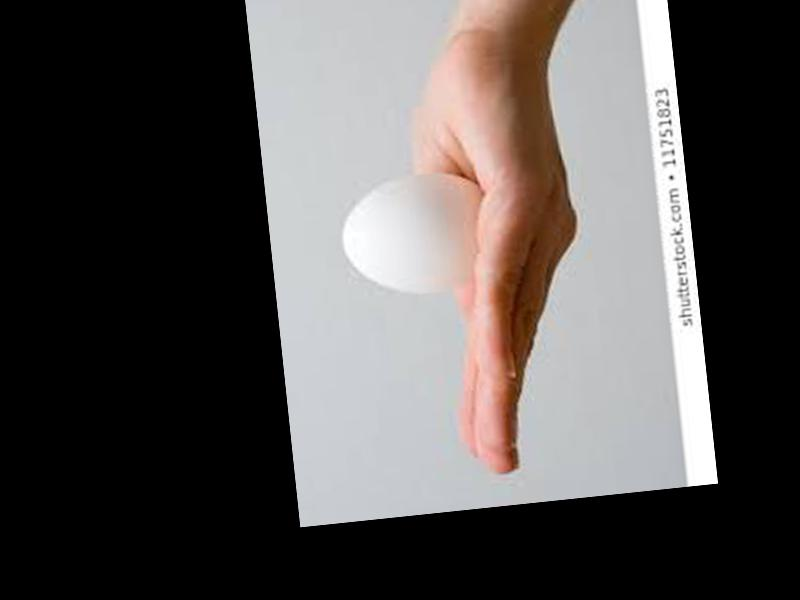Eggs: (338, 174, 493, 300)
